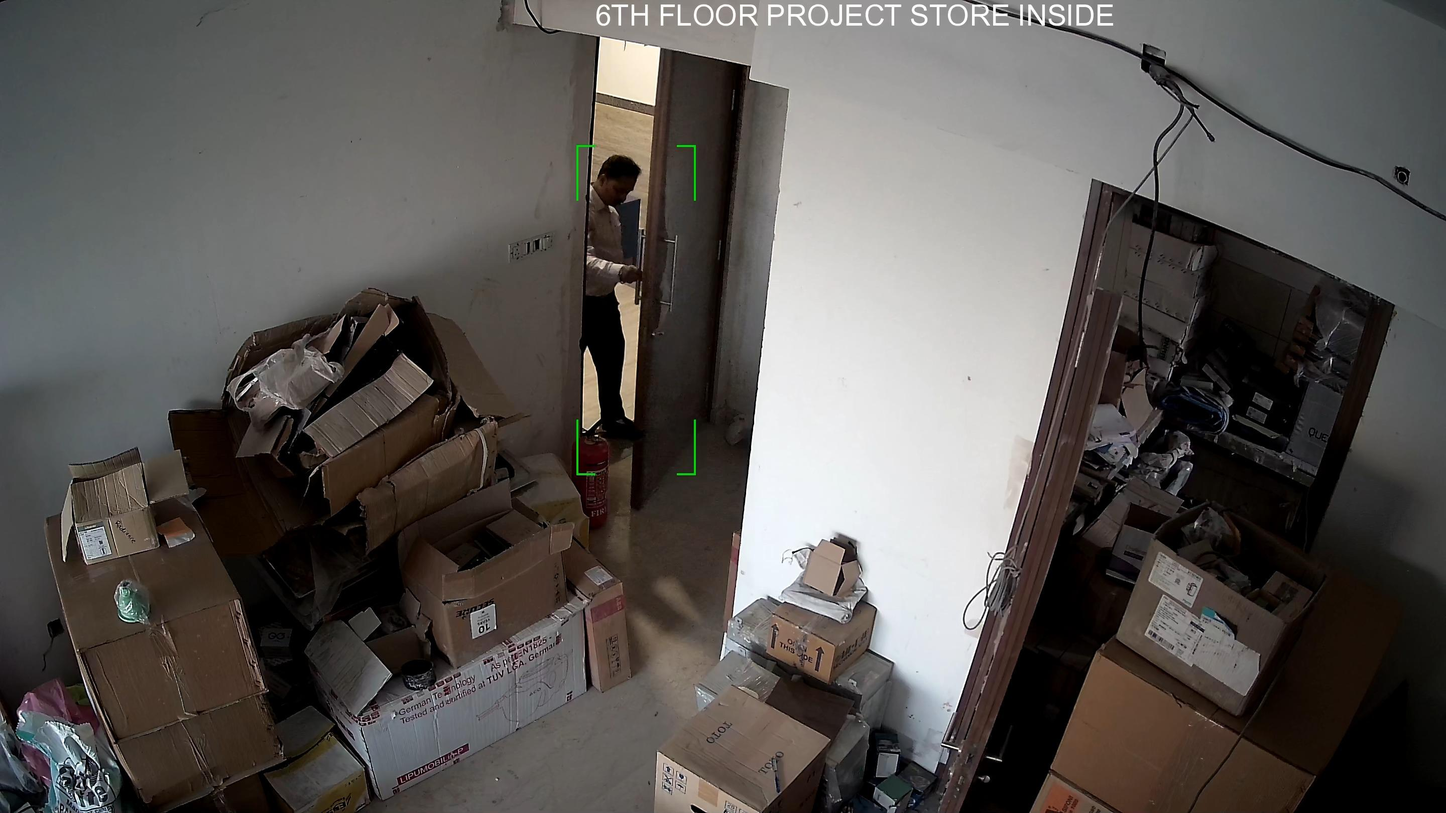Door-Open: (567, 33, 773, 522)
